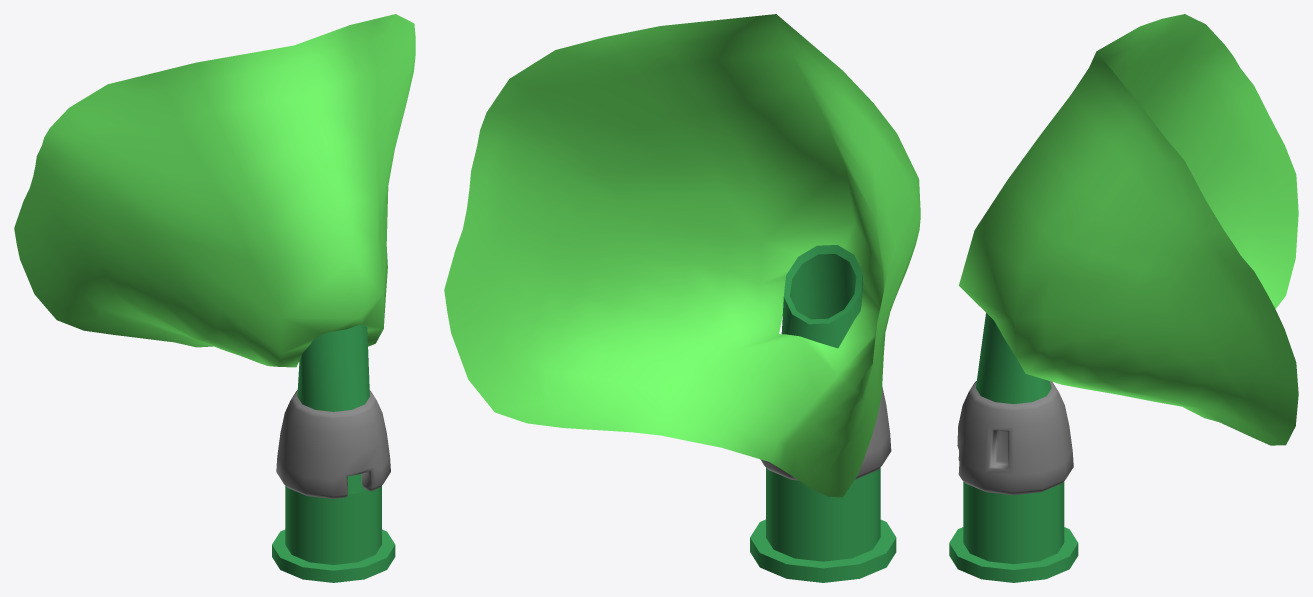
File: SM_MascarilladeOxígeno.fbx
The picture shows the model from 3 angles, left to right: view 1: azimuth 30°, elevation 25°; view 2: azimuth 150°, elevation 25°; view 3: azimuth 270°, elevation 25°; orthographic projection. The views are drawn at different scales.
Parts seen in each view (by area): view 1: Plane, Cylinder, Cylinder.001, Cylinder.002; view 2: Plane, Cylinder, Cylinder.002, Cylinder.001; view 3: Plane, Cylinder, Cylinder.001, Cylinder.002.
Part boxes in pixels (left/top/right/bottom): Plane: left=14, top=14, right=415, bottom=367; Cylinder: left=285, top=324, right=381, bottom=564; Cylinder.001: left=276, top=390, right=390, bottom=498; Cylinder.002: left=272, top=529, right=395, bottom=582; Plane: left=444, top=14, right=920, bottom=497; Cylinder: left=766, top=245, right=880, bottom=561; Cylinder.002: left=750, top=519, right=896, bottom=582; Cylinder.001: left=760, top=387, right=891, bottom=480; Plane: left=959, top=14, right=1298, bottom=445; Cylinder: left=963, top=313, right=1064, bottom=564; Cylinder.001: left=957, top=381, right=1073, bottom=495; Cylinder.002: left=949, top=527, right=1078, bottom=582.
Bounding box in the file's own units: 12.7 × 15.88 × 9.97.
